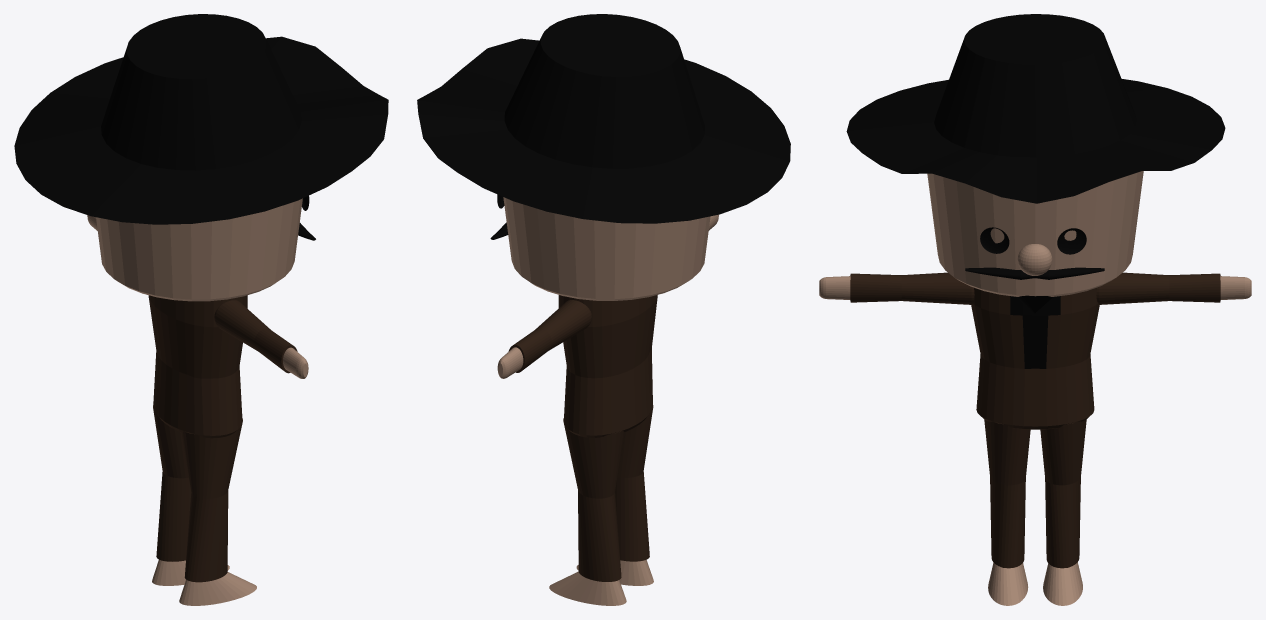
The model's file is brown_goatee_stenston.fbx.
3 renders of one model, left to right at view 1: azimuth 30°, elevation 25°; view 2: azimuth 150°, elevation 25°; view 3: azimuth 270°, elevation 25°, orthographic.
Visible parts, largest first — view 1: Cylinder.015, Headd.002, Cylinder.049, Cylinder.052, Cylinder.053, Cylinder.050, Cylinder.047, Cylinder.038, Cylinder.055; view 2: Cylinder.015, Headd.002, Cylinder.049, Cylinder.053, Cylinder.052, Cylinder.051, Cylinder.038, Cylinder.047, Cylinder.056; view 3: Cylinder.015, Headd.002, Cylinder.049, Cylinder.053, Cylinder.052, Cylinder.051, Cylinder.050, Cylinder.047, Cylinder.038, Cylinder.014, Eyes.007, Sphere.002 (+2 smaller).
Boxes of the visible parts, x1,y1,x2,y2 form: Cylinder.015: (14,14,388,224); Headd.002: (96,198,302,301); Cylinder.049: (148,295,247,438); Cylinder.052: (181,418,242,582); Cylinder.053: (153,405,191,561); Cylinder.050: (214,300,297,373); Cylinder.047: (179,572,256,605); Cylinder.038: (152,559,229,585); Cylinder.055: (283,347,308,378); Cylinder.015: (417,14,790,223); Headd.002: (503,197,710,300); Cylinder.049: (558,295,657,437); Cylinder.053: (563,418,624,581); Cylinder.052: (615,405,653,561); Cylinder.051: (508,300,591,372); Cylinder.038: (549,571,626,605); Cylinder.047: (576,559,653,585); Cylinder.056: (497,347,523,378); Cylinder.015: (846,14,1225,203); Headd.002: (927,171,1143,296); Cylinder.049: (971,287,1099,429); Cylinder.053: (1040,419,1086,568); Cylinder.052: (984,420,1030,568); Cylinder.051: (1096,272,1220,304); Cylinder.050: (850,272,974,304); Cylinder.047: (988,562,1028,605); Cylinder.038: (1043,562,1082,605); Cylinder.014: (965,267,1104,279); Eyes.007: (980,227,1086,254); Sphere.002: (1017,244,1052,275).
Bounding box in the file's own units: 301 × 484 × 346.
